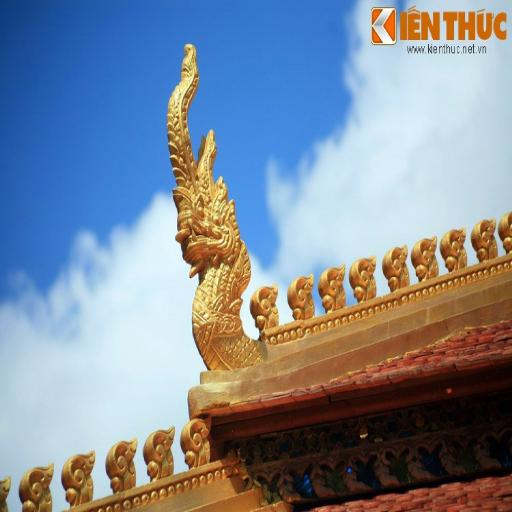la: (435, 440, 468, 480), (470, 434, 503, 474), (402, 444, 434, 482), (303, 461, 335, 497), (273, 466, 300, 506), (371, 452, 401, 488), (340, 458, 371, 492)
lua: (62, 449, 96, 506), (180, 414, 215, 466), (142, 427, 177, 479), (19, 464, 55, 509), (107, 435, 139, 485), (252, 277, 282, 329), (286, 274, 318, 322), (318, 268, 351, 312), (349, 253, 378, 299), (440, 224, 470, 268), (382, 244, 411, 288), (411, 239, 440, 279), (471, 216, 497, 260), (498, 212, 512, 250), (0, 474, 11, 512)
ran: (165, 42, 253, 367)
